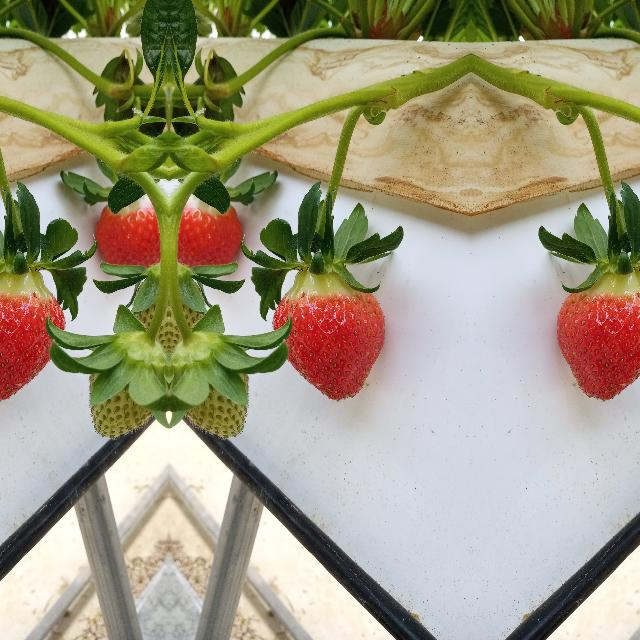Health_100: (271, 270, 385, 402), (556, 270, 640, 402), (0, 270, 65, 402), (171, 188, 249, 278), (87, 188, 165, 278)
Health_25: (179, 334, 251, 441), (85, 334, 157, 441)
